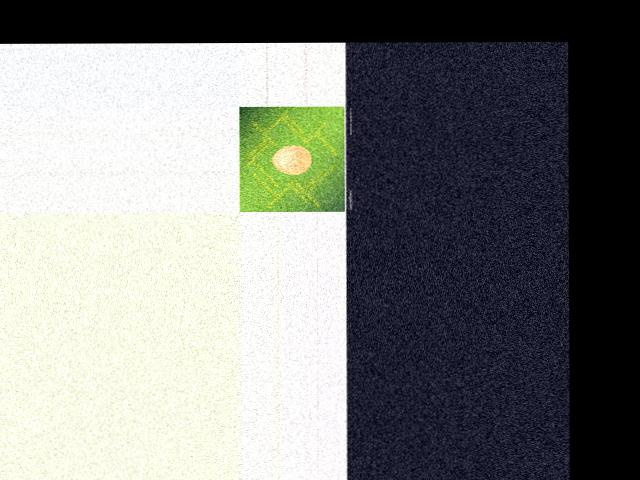egg: (273, 144, 311, 174)
